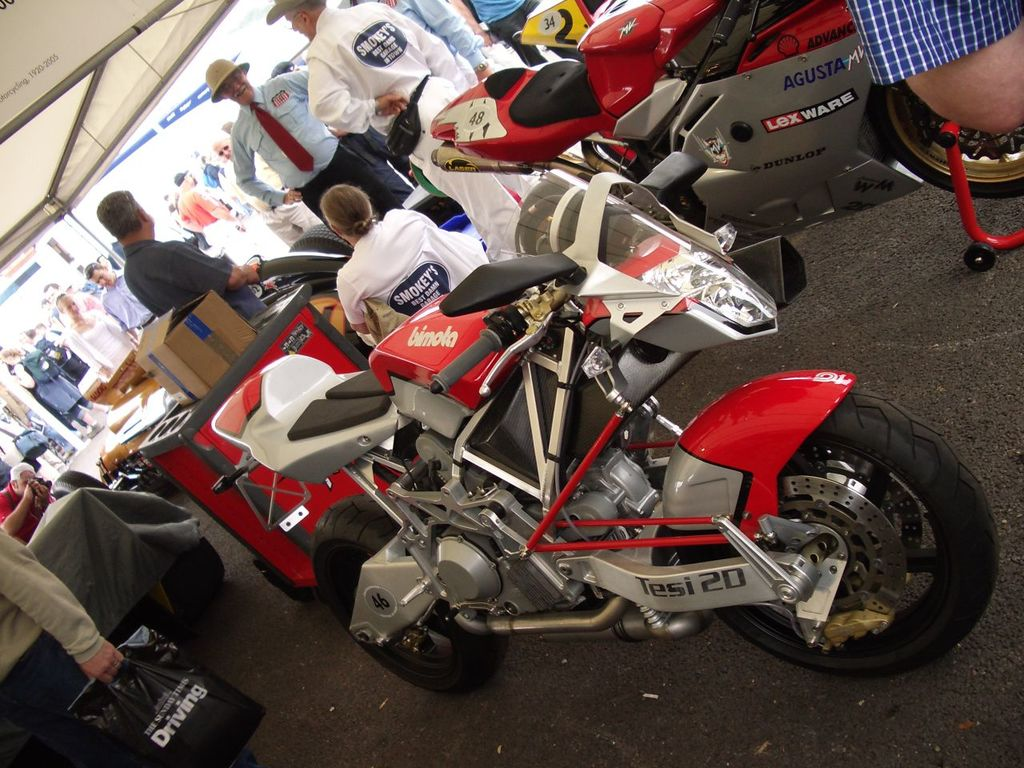Motorcycle: (212, 168, 1000, 677), (430, 0, 1023, 254)
